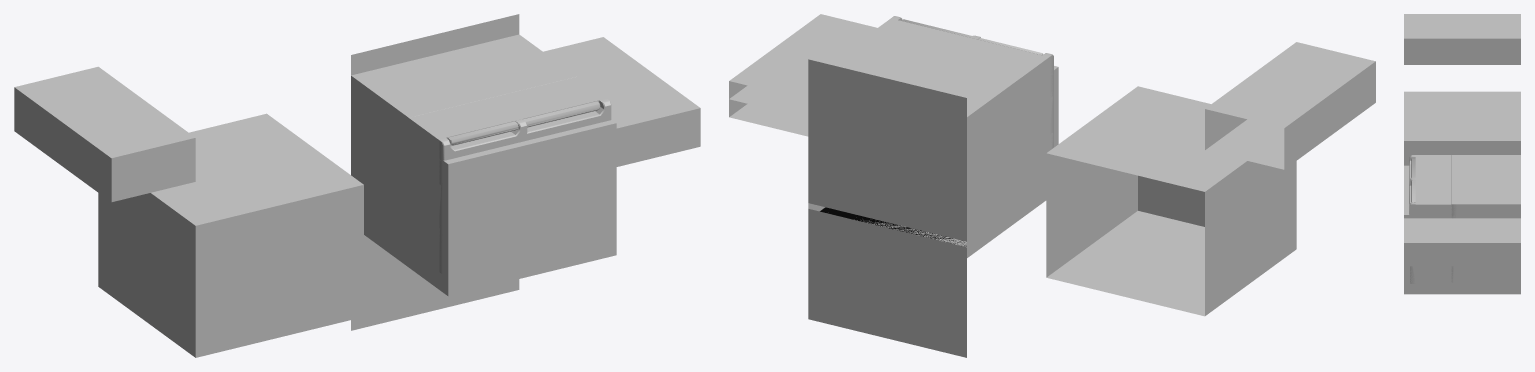
The model's file is drawers.fbx.
The picture shows the model from 3 angles, left to right: view 1: azimuth 30°, elevation 25°; view 2: azimuth 150°, elevation 25°; view 3: azimuth 270°, elevation 25°; orthographic projection. The views are drawn at different scales.
Parts seen in each view (by area): view 1: avanzi, D5_LOD0, C1_LOD0, D3_LOD0, C1_shadow, D4_LOD0, D1_LOD0; view 2: avanzi, D3_LOD0, C1_shadow, C1_LOD0, D1_LOD0, D5_LOD0, D4_LOD0, shadow, shadow_lighter; view 3: avanzi, C1_LOD0, D5_LOD0, D3_LOD0, D1_LOD0.
Boxes of the visible parts, bbox=[...] form: avanzi: bbox=[14, 37, 700, 357]; D5_LOD0: bbox=[351, 76, 611, 271]; C1_LOD0: bbox=[351, 34, 576, 248]; D3_LOD0: bbox=[351, 76, 606, 273]; C1_shadow: bbox=[351, 14, 519, 330]; D4_LOD0: bbox=[413, 97, 527, 156]; D1_LOD0: bbox=[438, 110, 606, 274]; avanzi: bbox=[729, 14, 1375, 316]; D3_LOD0: bbox=[808, 18, 1053, 241]; C1_shadow: bbox=[808, 59, 966, 357]; C1_LOD0: bbox=[812, 39, 1021, 225]; D1_LOD0: bbox=[808, 57, 1053, 240]; D5_LOD0: bbox=[808, 16, 1053, 239]; D4_LOD0: bbox=[888, 35, 1047, 241]; shadow: bbox=[820, 207, 966, 246]; shadow_lighter: bbox=[854, 219, 966, 247]; avanzi: bbox=[1404, 14, 1520, 294]; C1_LOD0: bbox=[1451, 155, 1520, 283]; D5_LOD0: bbox=[1409, 155, 1520, 283]; D3_LOD0: bbox=[1409, 155, 1451, 204]; D1_LOD0: bbox=[1409, 204, 1520, 283].
Size of what is drawn, in the model's own units: 350 by 185 by 100.
